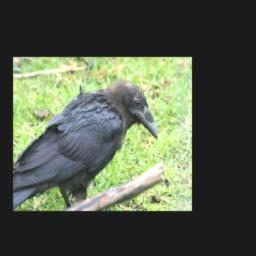Crow: (13, 79, 159, 210)
